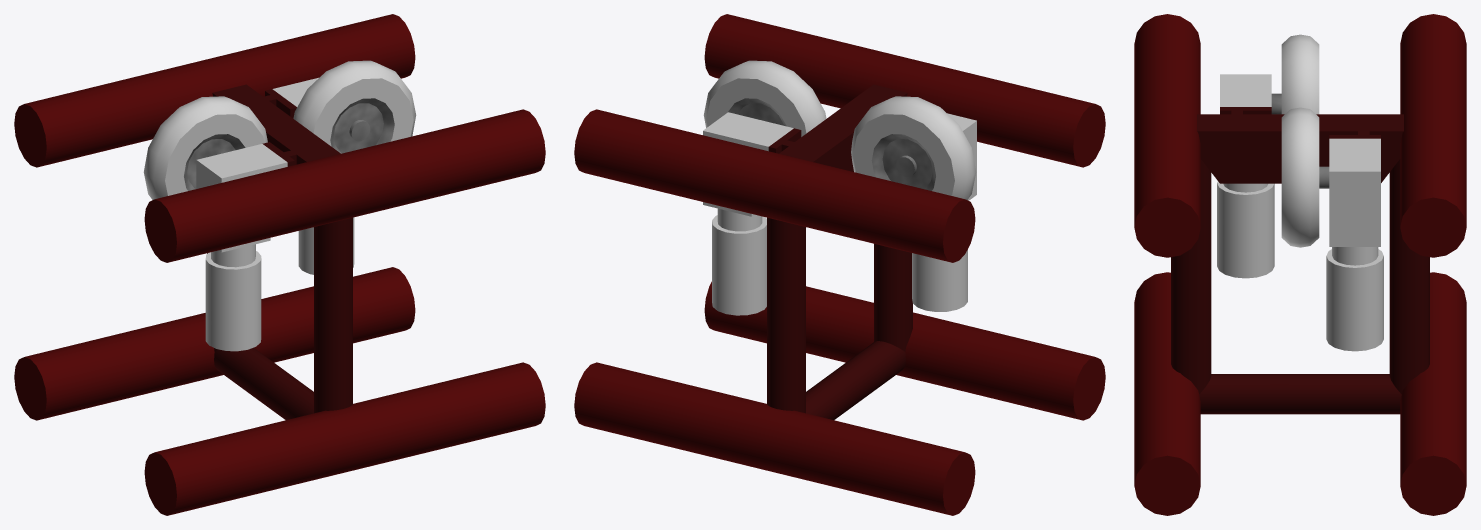
File: quad_tire_track.obj
The picture shows the model from 3 angles, left to right: view 1: azimuth 30°, elevation 25°; view 2: azimuth 150°, elevation 25°; view 3: azimuth 270°, elevation 25°; orthographic projection. The views are drawn at different scales.
Visible parts, largest first — view 1: Motors.002; view 2: Motors.002; view 3: Motors.002.
Boxes of the visible parts, left/top/right/bottom form: Motors.002: left=14, top=14, right=545, bottom=515; Motors.002: left=574, top=14, right=1105, bottom=515; Motors.002: left=1134, top=14, right=1466, bottom=515.
Bounding box in the file's own units: 1.51 × 1.33 × 1.15.
